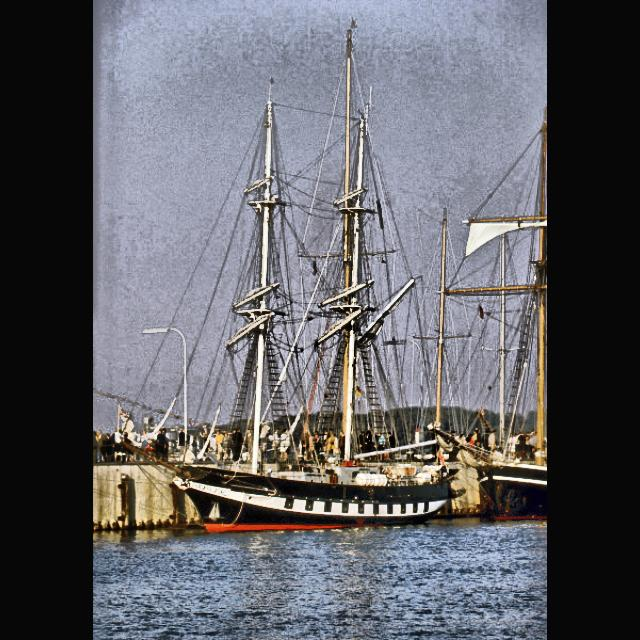sailing_vessel: (119, 20, 454, 538)
